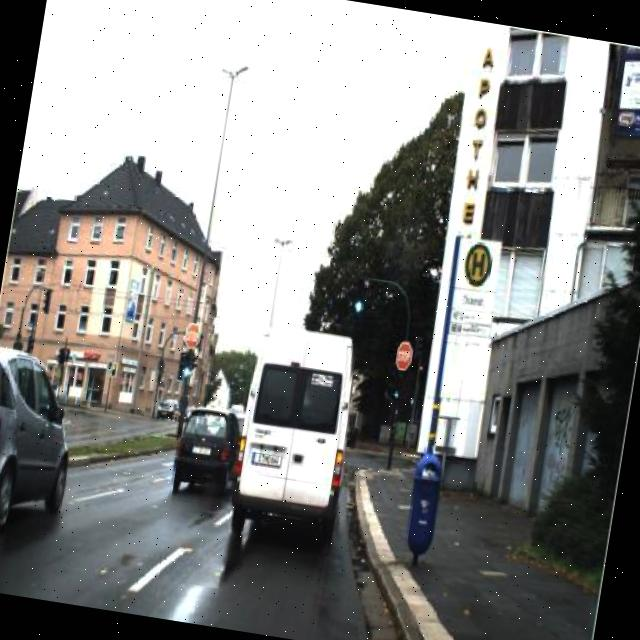Stop: (390, 339, 416, 374), (182, 321, 204, 354)
